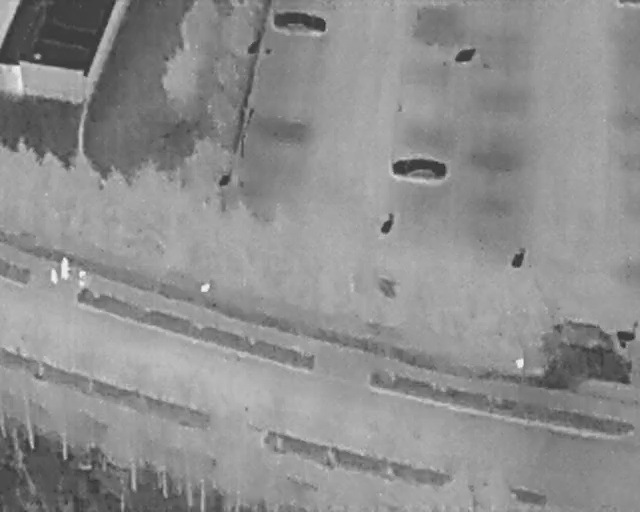Car: (543, 321, 632, 385), (271, 7, 328, 39), (389, 155, 448, 183)
Person: (77, 269, 88, 290), (49, 267, 59, 286), (59, 264, 70, 281), (62, 257, 71, 273)
